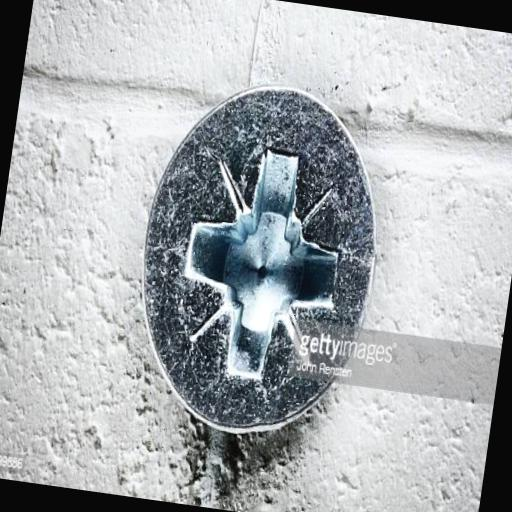Phillips: (118, 66, 398, 452)
